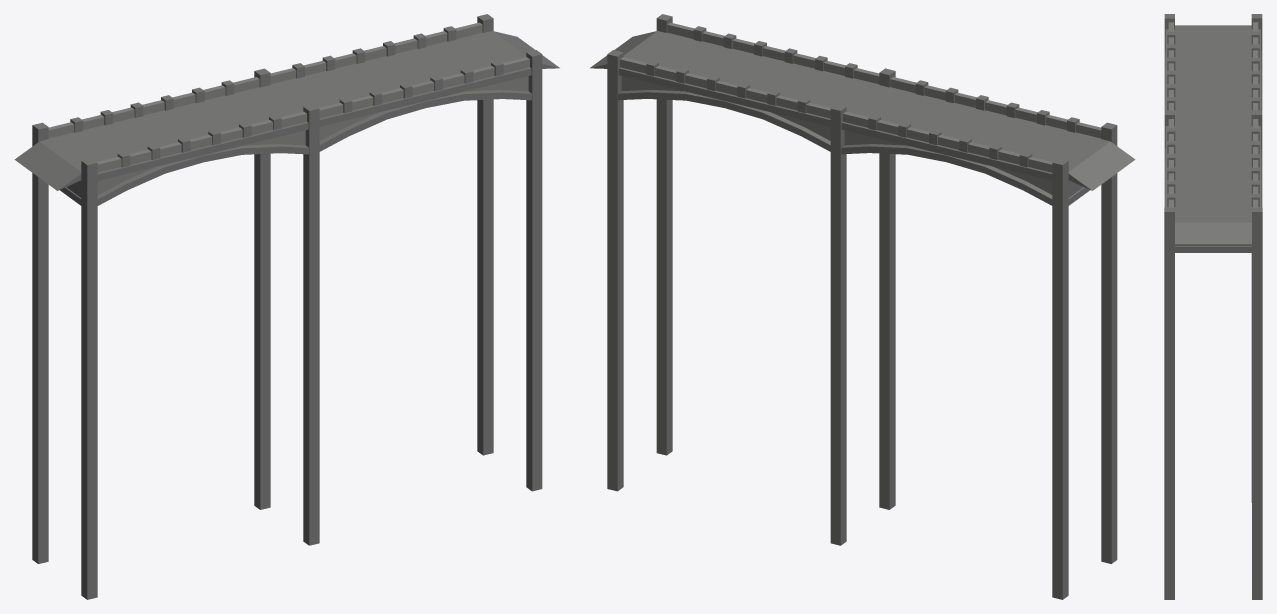
Rendered from bridge large.fbx.
3 renders of one model, left to right at view 1: azimuth 30°, elevation 25°; view 2: azimuth 150°, elevation 25°; view 3: azimuth 270°, elevation 25°, orthographic. The views are drawn at different scales.
Visible parts, largest first — view 1: bridge large; view 2: bridge large; view 3: bridge large.
Part boxes in pixels (<box>): bridge large: <box>14,14,559,599</box>; bridge large: <box>590,14,1135,599</box>; bridge large: <box>1164,14,1262,599</box>.
Size of the model in its own units: 3373 by 2785 by 638.
